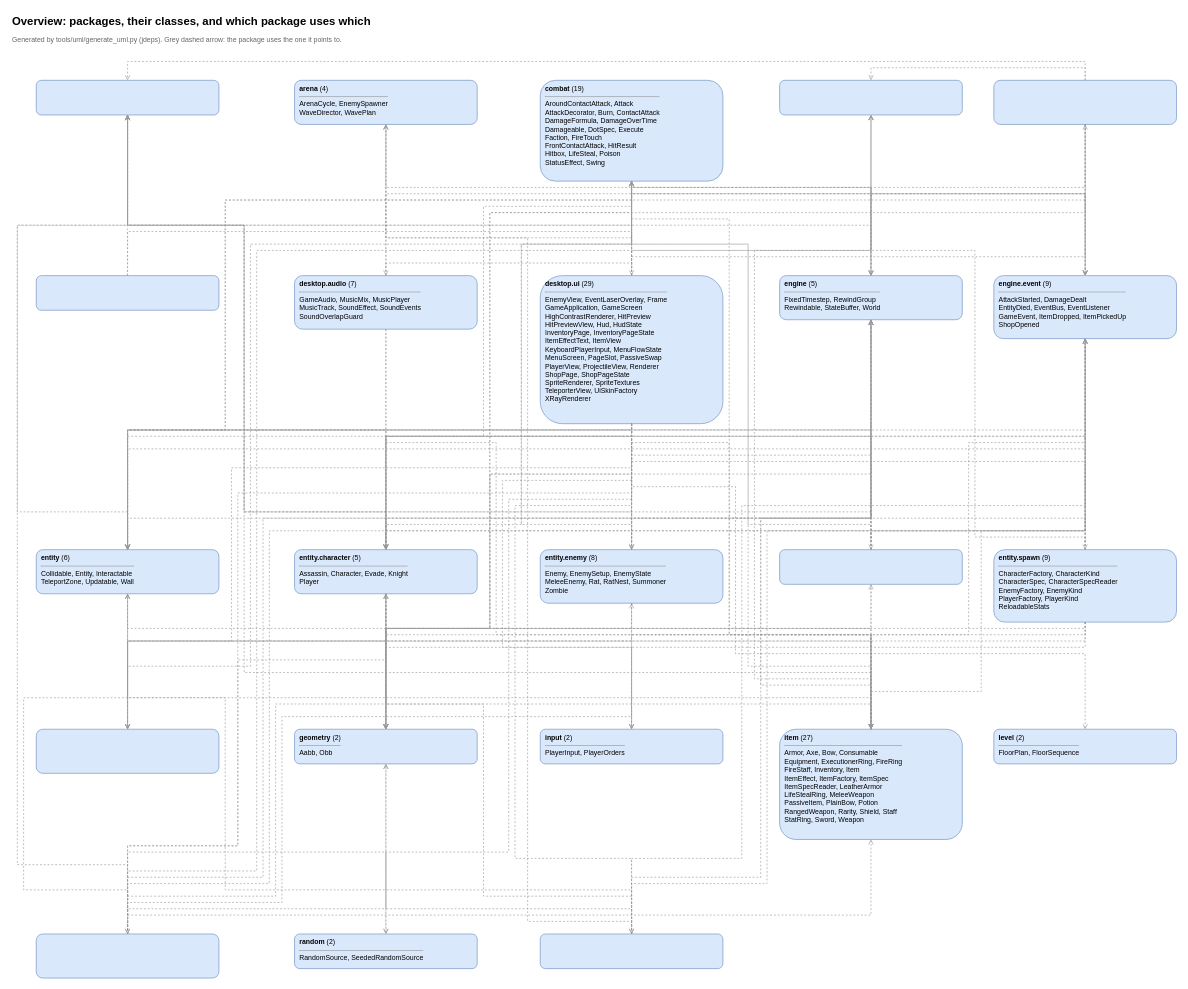
Image size: 1188x989. Some labels were removed from this diagram. The shapes that lost their labels are listed below. From the top down, each one's centre as x and y in pixels, then its label:
At [127,97]: "(root) (1) GameConstants".
At [870,97]: "data (2) DataRegistry, Reloadable".
At [1085,102]: "debug (6) DebugFeature, EventLaser, HotReload Rewind, ViewMode, ViewSwitcher".
At [127,292]: "desktop (2) DesktopLauncher, StartupHelper".
At [870,566]: "entity.projectile (3) Arrow, Fireball, Projectile".
At [127,751]: "entity.stats (5) BaseStats, BuildModifier CharacterBuild, Stat, StatSource".
At [127,955]: "loot (4) ItemDrop, ItemDropper, LootDrops LootTable".
At [631,951]: "shop (1) Shopkeeper".
